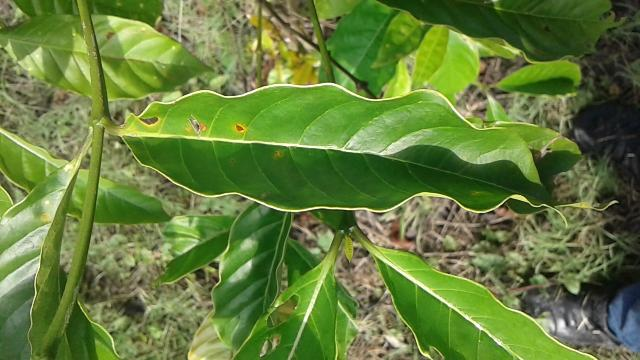rust_level_1: (120, 86, 610, 214)
